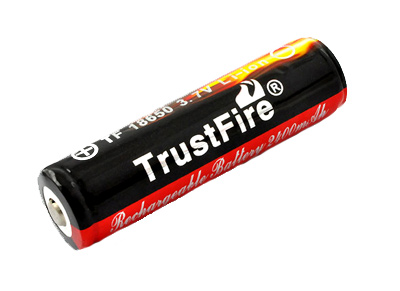Battery: (35, 32, 349, 251)
